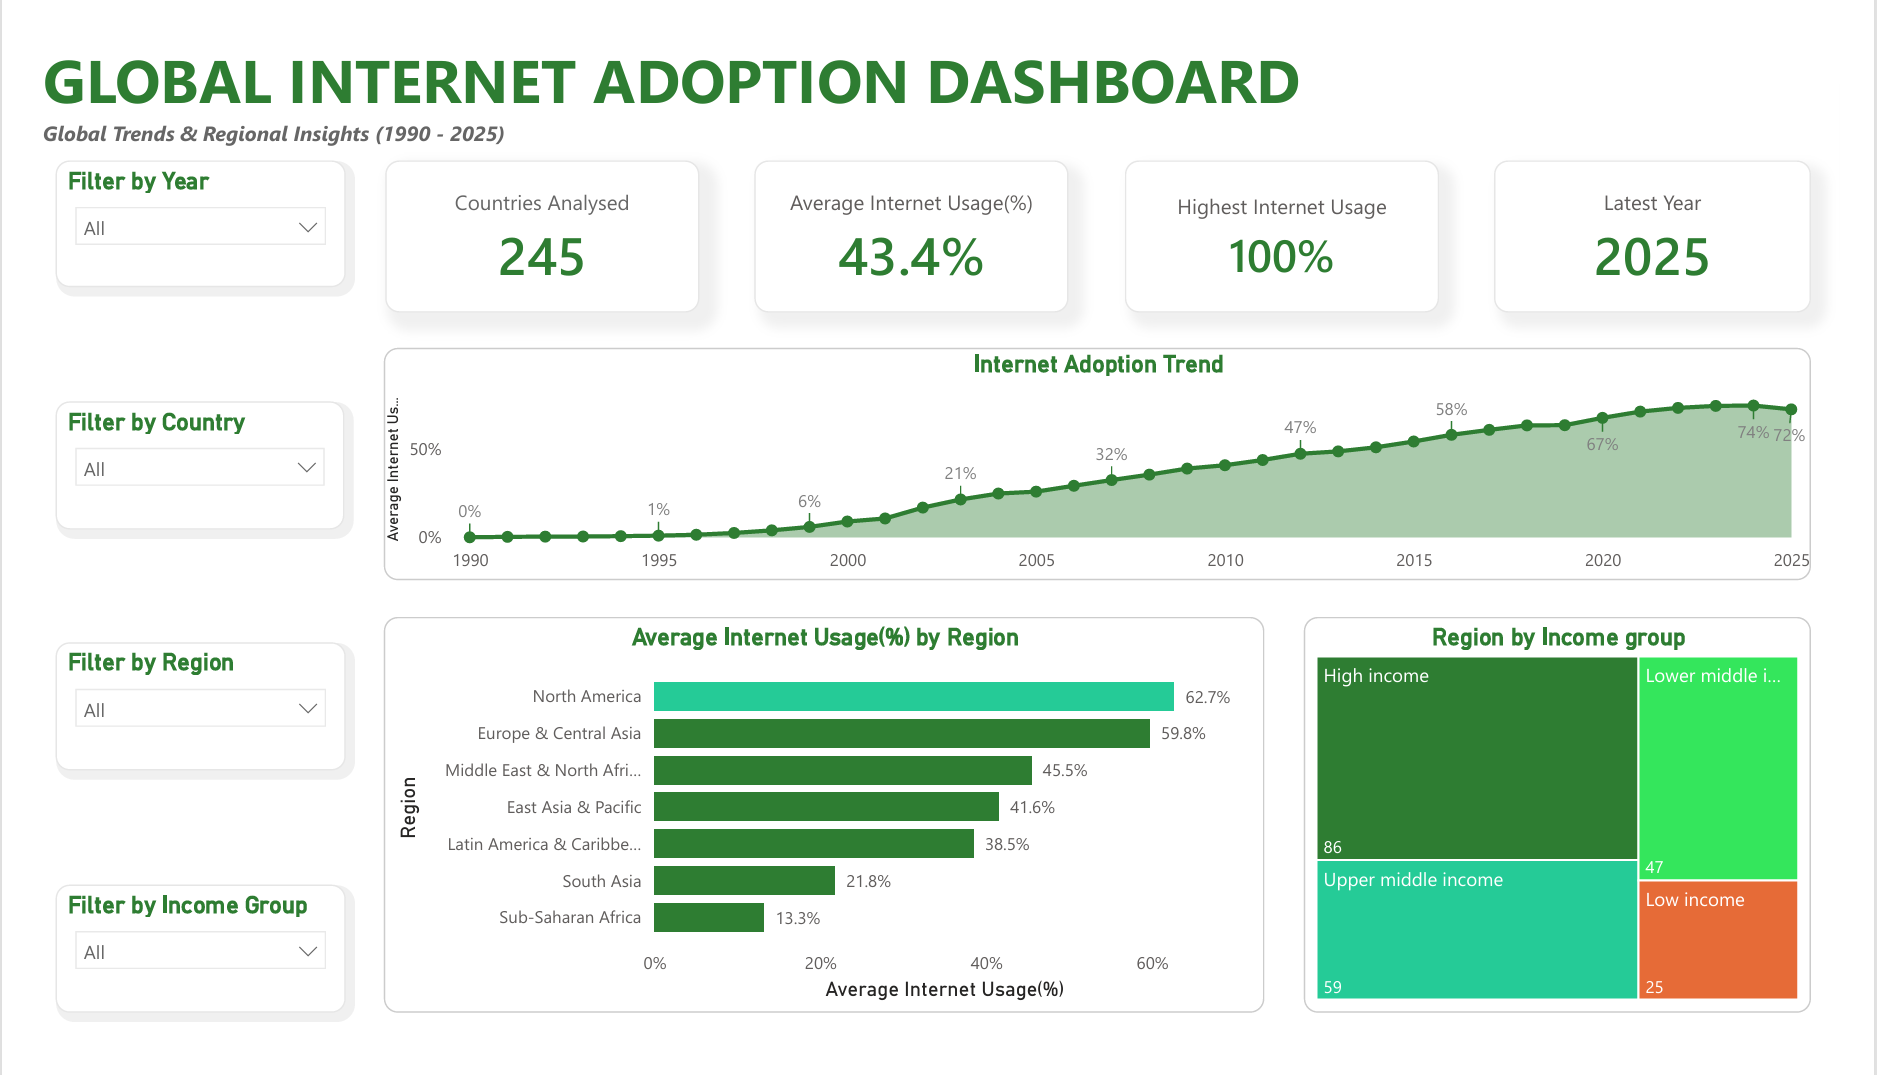

Layout of this report page (visuals, bound fields, positions):
{"tool":"powerbi","page":{"name":"Executive Overview","canvas":[1280,720],"ordinal":0},"visuals":[{"type":"shape","box":[0,0,1279.5,720.8],"z":0},{"type":"textbox","box":[0,0,1279.6,93],"z":1000},{"type":"slicer","title":"Filter by Country","fields":{"Values":["Internet Adoption.Country Name"]},"box":[13.6,262.6,205.9,91.5],"z":2000},{"type":"slicer","title":"Filter by Year","fields":{"Values":["Internet Adoption.Year"]},"box":[13.6,91.7,206,90.6],"z":3000},{"type":"cardVisual","fields":{"Data":["Internet Adoption.Average Internet Usage"]},"box":[510.1,91.5,222.7,107.9],"z":4000,"group":"g1"},{"type":"slicer","title":"Filter by Region","fields":{"Values":["WDICountry.Region"]},"box":[13.6,434.5,205.9,90.9],"z":4000},{"type":"slicer","title":"Filter by Income Group","fields":{"Values":["WDICountry.Income Group"]},"box":[13.6,605.7,205.9,90.9],"z":5000},{"type":"lineChart","title":"Internet Adoption Trend","fields":{"Category":["Internet Adoption.Year"],"Y":["Internet Adoption.Average Internet Usage(%)"]},"box":[247.1,225,1012.6,164.7],"z":6000},{"type":"cardVisual","fields":{"Data":["Internet Adoption.Countries Analysed"]},"box":[247.8,91.5,222.7,108.3],"z":7000,"group":"g1"},{"type":"clusteredBarChart","fields":{"Category":["WDICountry.Region"],"Y":["Internet Adoption.Average Internet Usage"]},"box":[247,415.9,625.3,280.6],"z":7000},{"type":"cardVisual","fields":{"Data":["Internet Adoption.Highest Internet User"]},"box":[772.6,91.5,222.7,107.9],"z":8000,"group":"g1"},{"type":"treemap","title":"Region by Income group","fields":{"Group":["WDICountry.Income Group"],"Values":["CountNonNull(WDICountry.Region)"]},"box":[899.8,415.9,359.9,280.6],"z":8000},{"type":"group","id":"g1","title":"Group 1","box":[247.8,91.5,1011.9,108.5],"z":9000},{"type":"cardVisual","fields":{"Data":["Internet Adoption.Latest Year"]},"box":[1035,91.5,224.7,108.5],"z":9000,"group":"g1"}]}

Visuals, with their boxes in screenshot pixels (x1, y1, x2, y2), scaled from the page's 1280x720 canvas onto the 1877x1075 screenshot:
shape: [left=0, top=0, right=1876, bottom=1074]
textbox: [left=0, top=0, right=1876, bottom=139]
"Filter by Country" slicer: [left=20, top=392, right=322, bottom=529]
"Filter by Year" slicer: [left=20, top=137, right=322, bottom=272]
cardVisual - Internet Adoption.Average Internet Usage: [left=748, top=137, right=1075, bottom=298]
"Filter by Region" slicer: [left=20, top=649, right=322, bottom=784]
"Filter by Income Group" slicer: [left=20, top=904, right=322, bottom=1040]
"Internet Adoption Trend" lineChart: [left=362, top=336, right=1847, bottom=582]
cardVisual - Internet Adoption.Countries Analysed: [left=363, top=137, right=690, bottom=298]
clusteredBarChart - WDICountry.Region x Internet Adoption.Average Internet Usage: [left=362, top=621, right=1279, bottom=1040]
cardVisual - Internet Adoption.Highest Internet User: [left=1133, top=137, right=1460, bottom=298]
"Region by Income group" treemap: [left=1319, top=621, right=1847, bottom=1040]
"Group 1" group: [left=363, top=137, right=1847, bottom=299]
cardVisual - Internet Adoption.Latest Year: [left=1518, top=137, right=1847, bottom=299]
